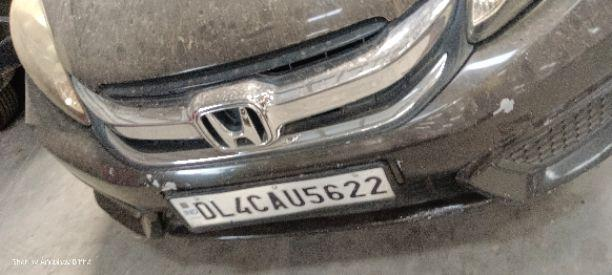license_plate: (9, 0, 611, 239), (162, 159, 397, 234)
